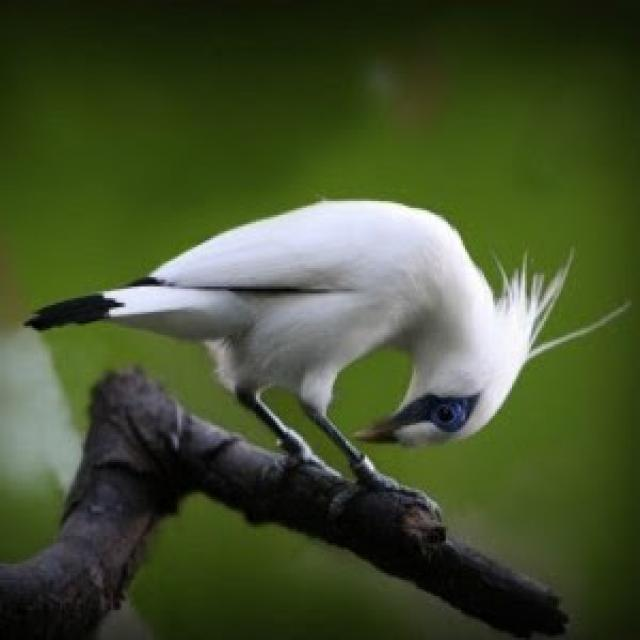Jalak Bali: (7, 162, 630, 547)
